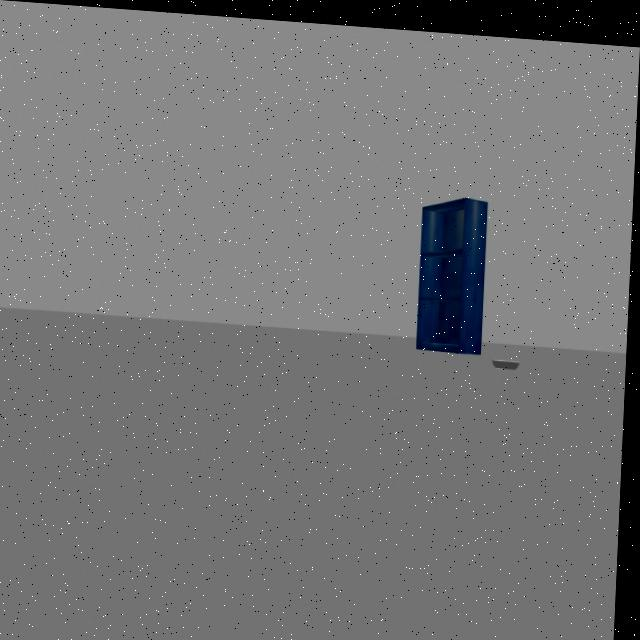bowl: (491, 345, 526, 368)
shelf: (415, 182, 492, 353)
